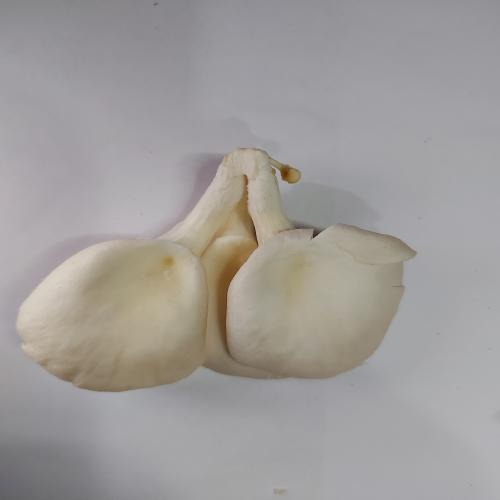Oyster Mushroom: (15, 146, 417, 392)
